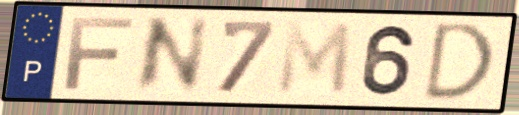6: (360, 22, 420, 100)
7: (217, 17, 279, 97)
D: (420, 20, 498, 104)
F: (61, 15, 137, 92)
M: (274, 20, 355, 99)
N: (129, 15, 213, 96)
